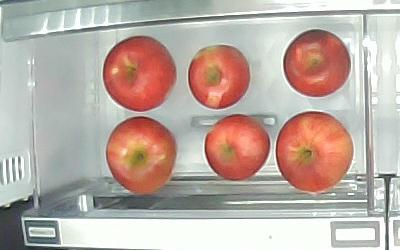apple: (275, 110, 355, 192), (101, 34, 177, 113), (106, 116, 177, 195), (282, 27, 351, 98), (203, 113, 271, 180), (186, 43, 252, 109)
